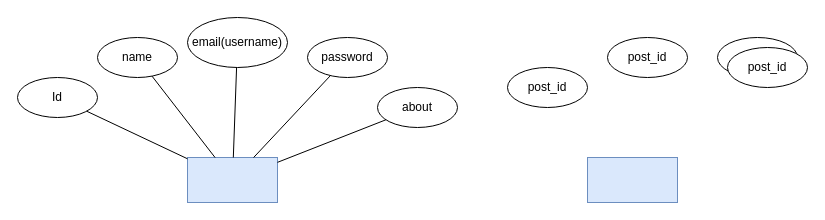
Some shapes in this 825 by 220 pixel diagram are drawn without their labels. Here are the shapes that lost their labels. From the top down, the centre of each, then its label:
point 232,179: User (Entity)
point 632,179: Post (Entity)
